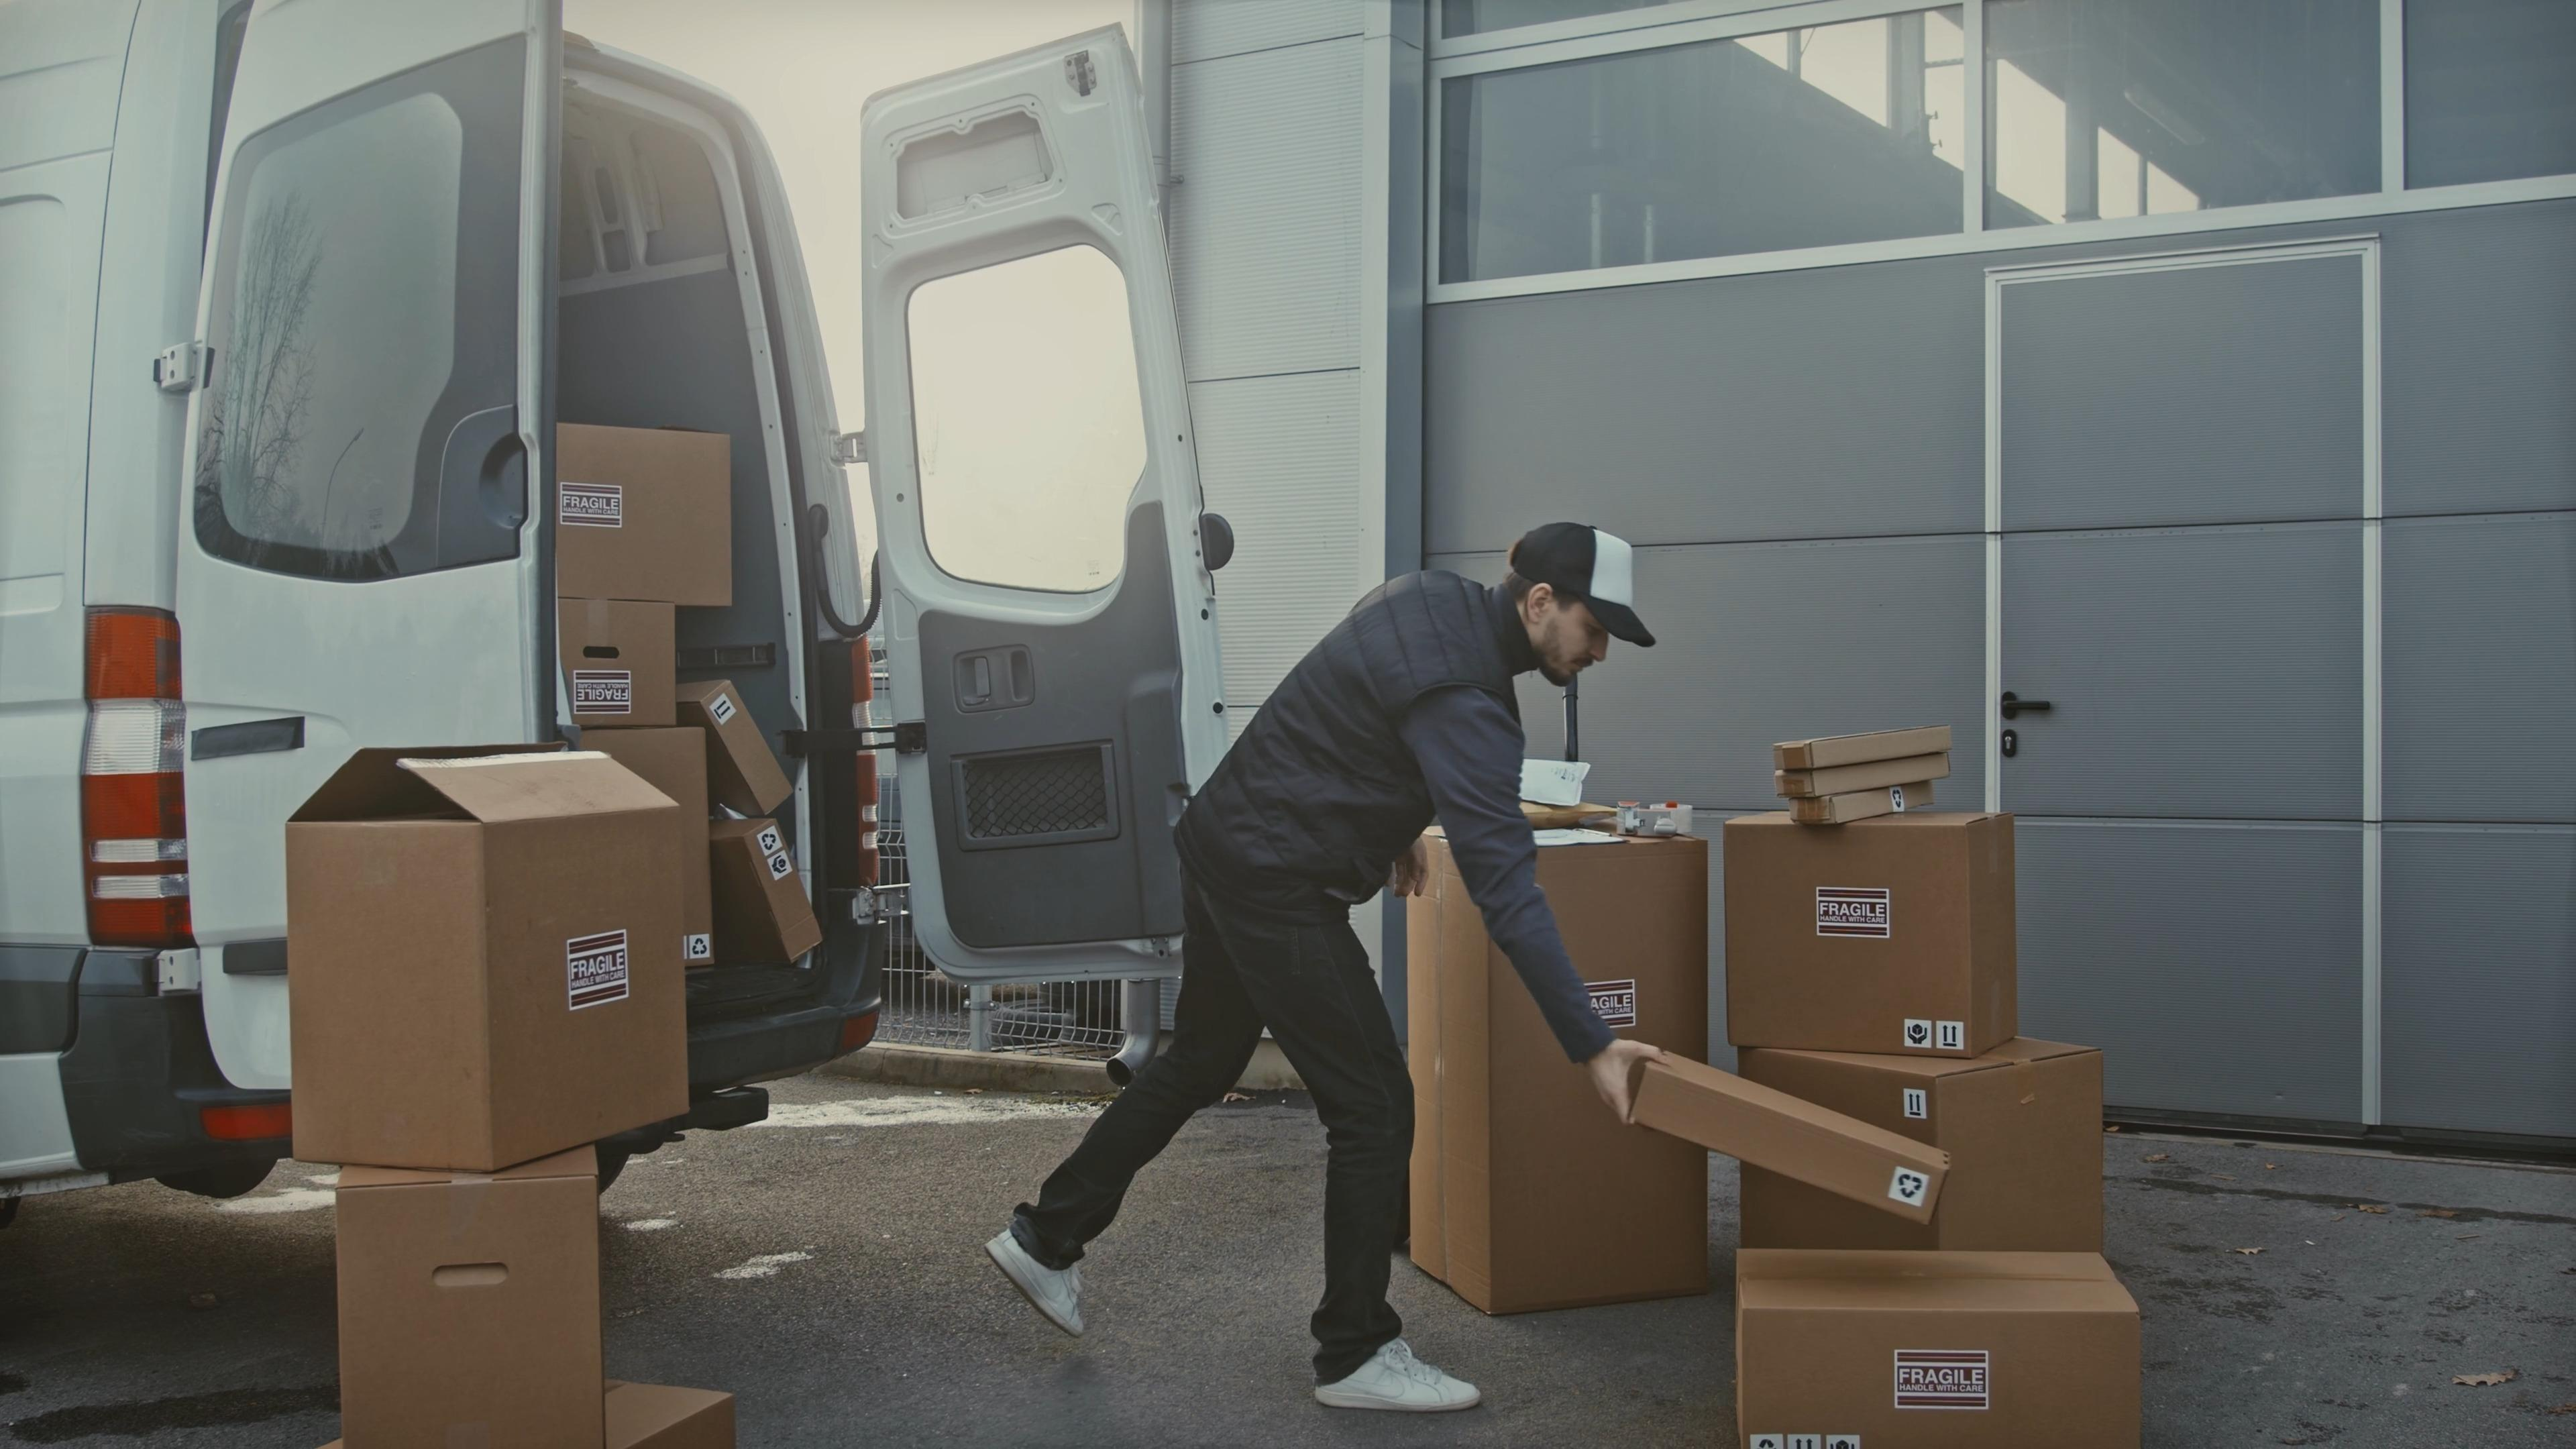-: (288, 738, 688, 1171), (1392, 830, 1711, 1320), (1732, 1228, 2143, 1449), (1737, 1040, 2116, 1249), (333, 1168, 605, 1449), (1732, 801, 2013, 1047), (1624, 1044, 1953, 1237), (545, 419, 734, 607), (556, 603, 683, 732)
